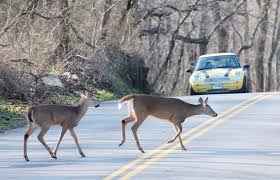deer: (117, 93, 220, 155), (21, 93, 102, 162)
